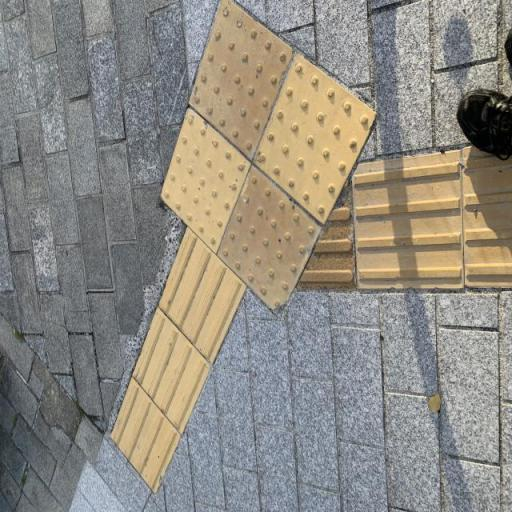dot: (256, 54, 380, 227), (189, 0, 294, 163), (214, 165, 322, 316), (160, 107, 253, 252)
line: (351, 150, 463, 289), (157, 226, 247, 365), (131, 307, 212, 437), (111, 379, 182, 494)
